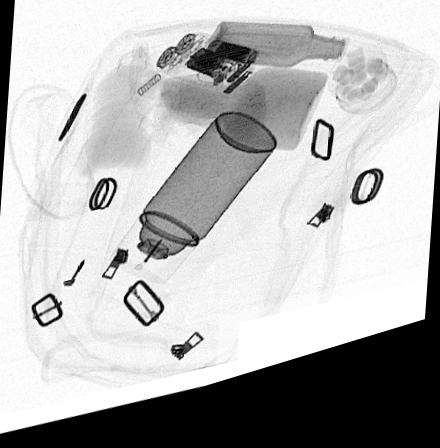Sprayer: (107, 124, 278, 297)
